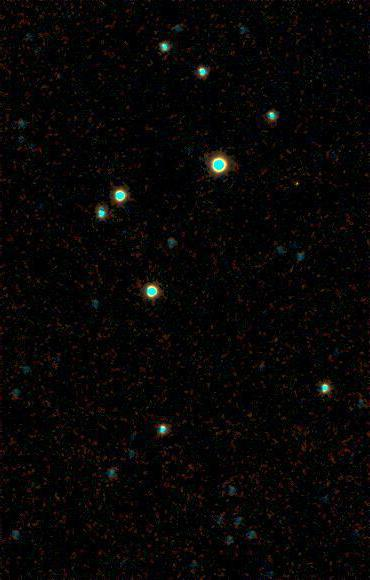star: (236, 401, 266, 431)
